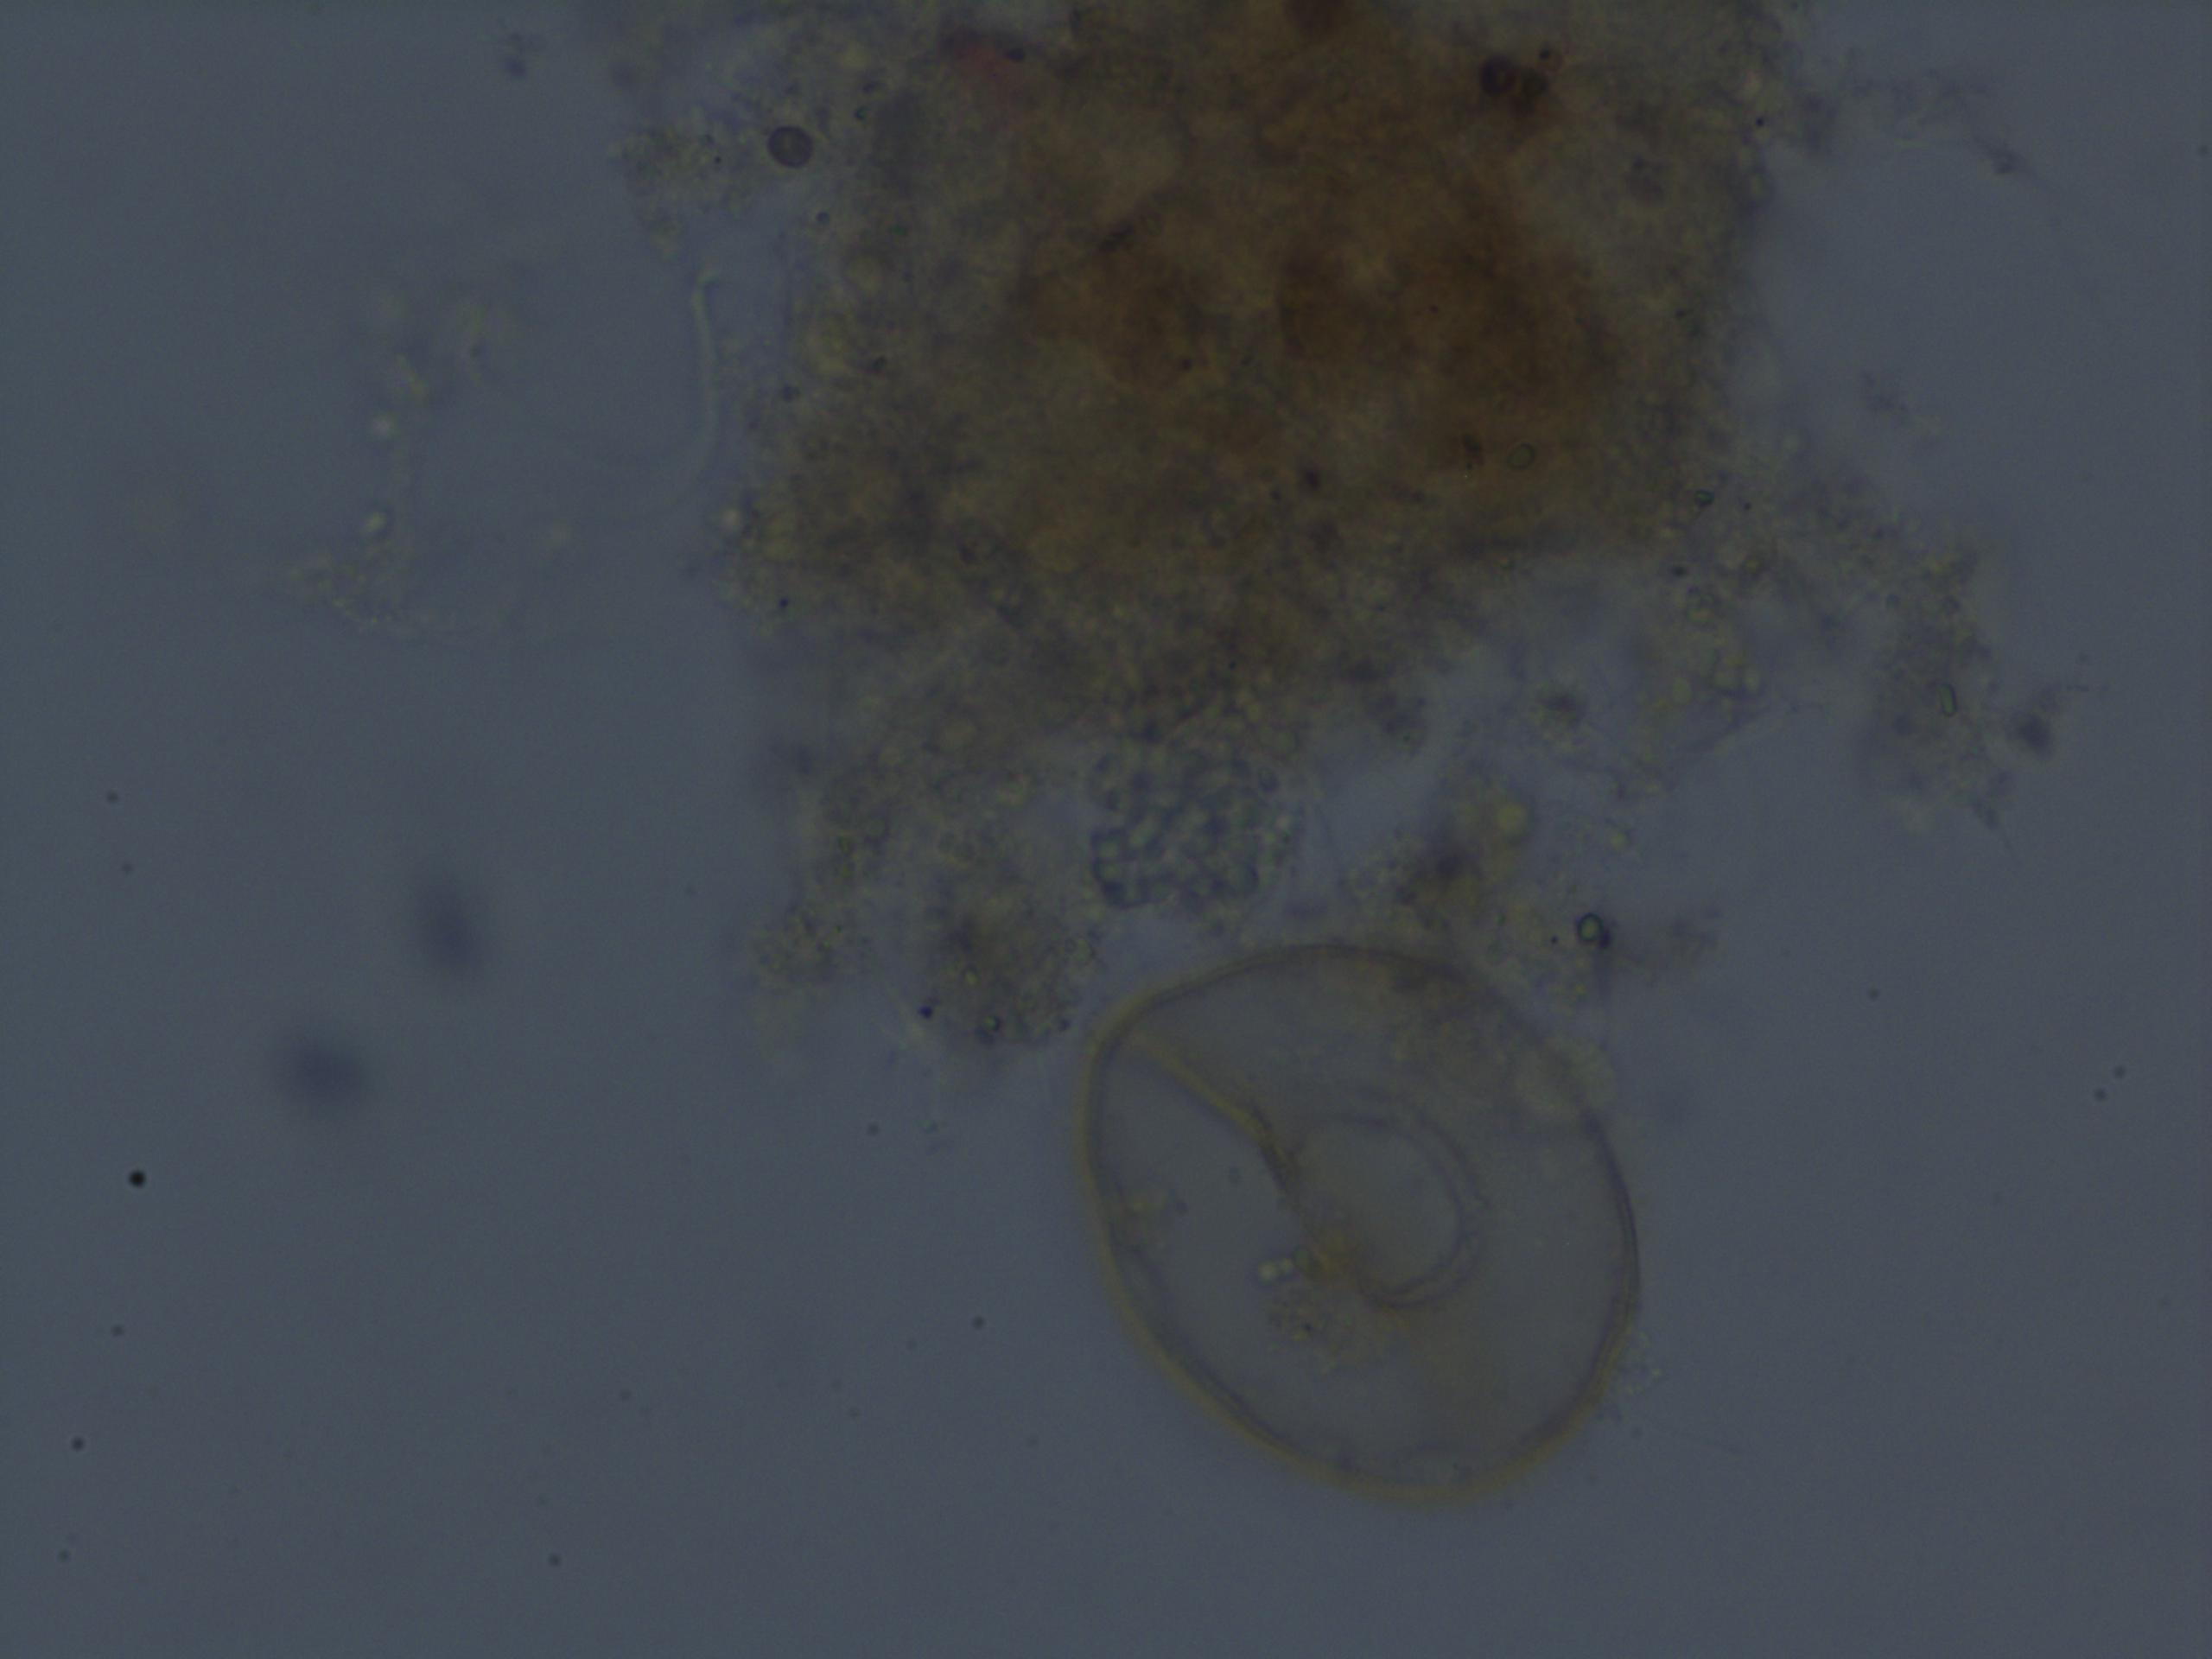protozoa: (1064, 936, 1672, 1495)
